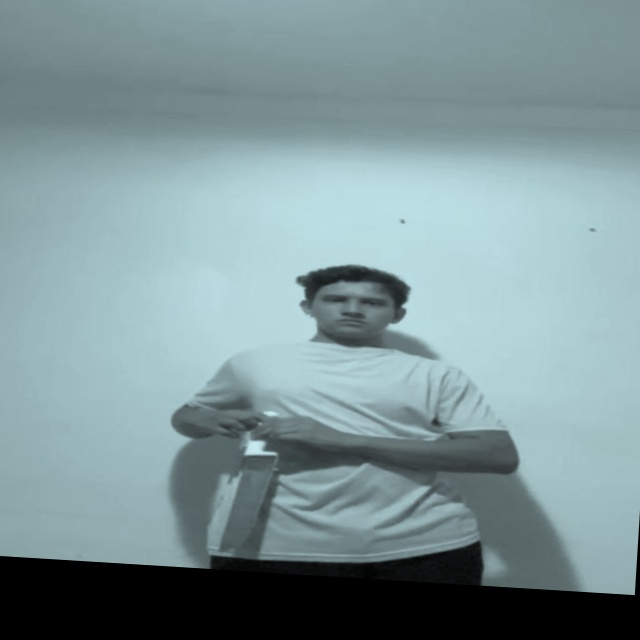Sharp-Object: (216, 454, 278, 557)
